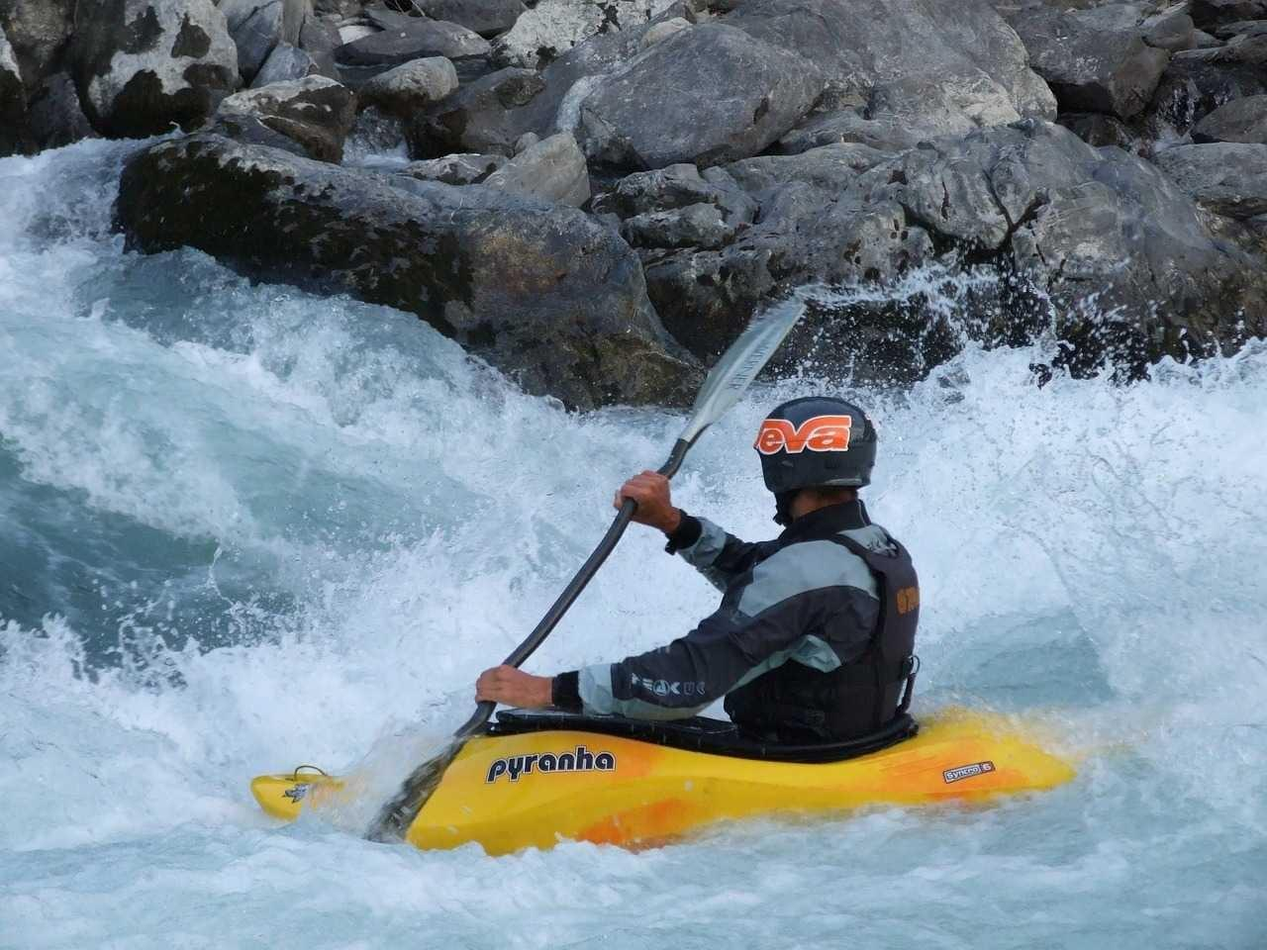kayak: (253, 708, 1080, 862)
